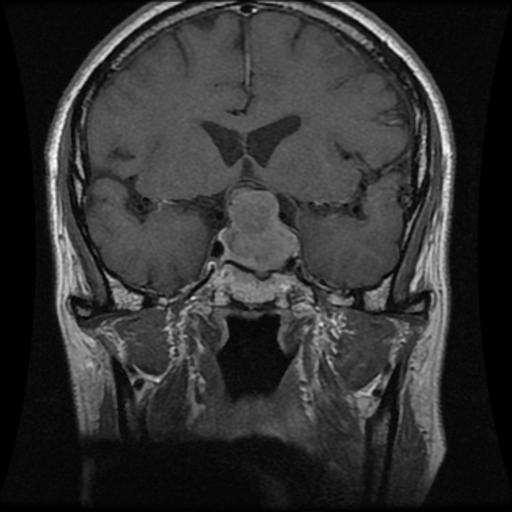Pituirity_tumour: (222, 189, 297, 268)
